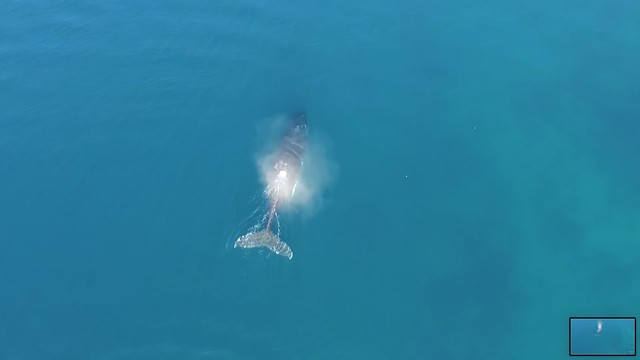whale: (224, 102, 321, 266)
